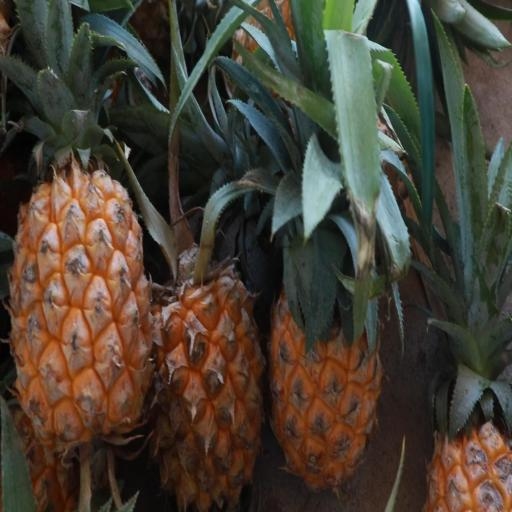Pineapple - v8 v1: (7, 154, 158, 474), (266, 172, 389, 496), (140, 231, 269, 512), (421, 290, 512, 511)
